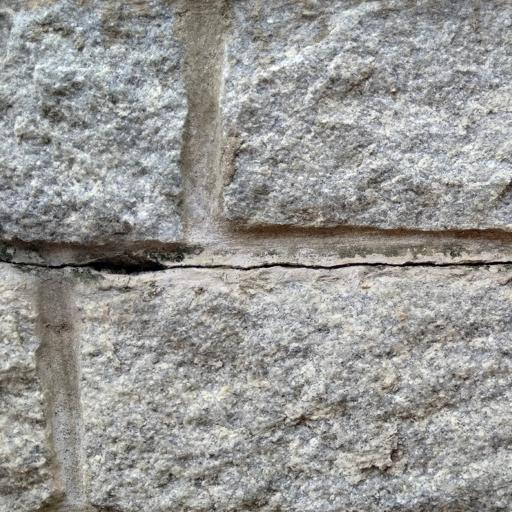minor_crack: (0, 228, 512, 308)
